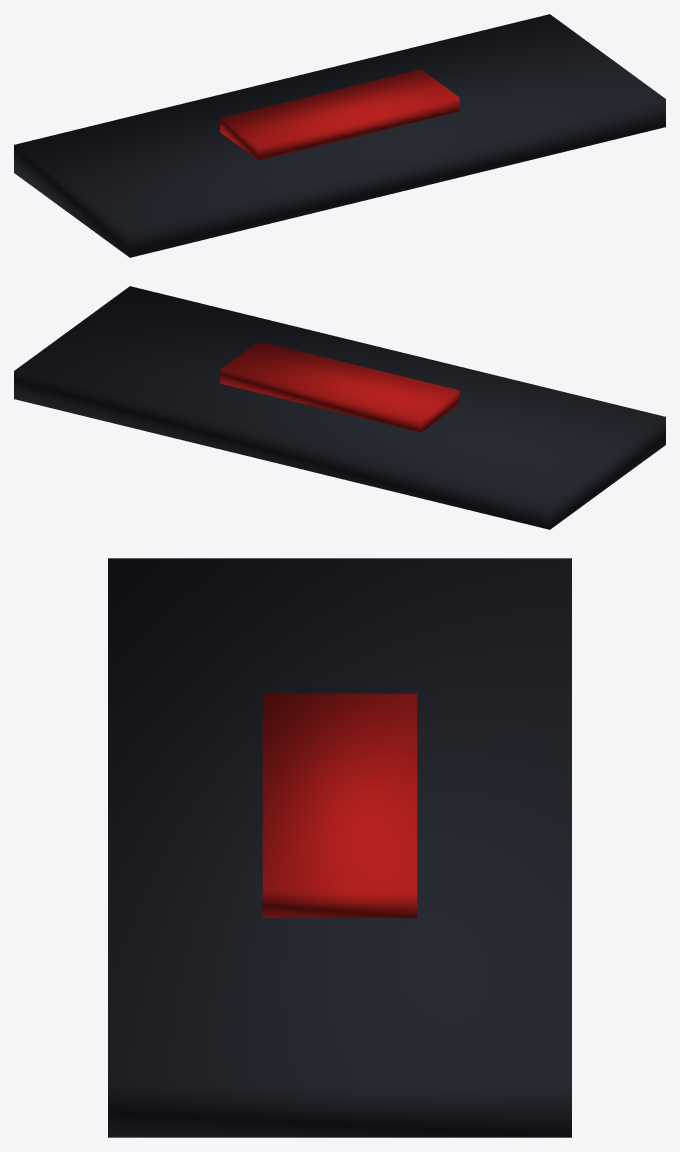
File: 77_L99_Crystal_Fault_Overlay.fbx
The picture shows the model from 3 angles, top to bottom: view 1: azimuth 30°, elevation 25°; view 2: azimuth 150°, elevation 25°; view 3: azimuth 270°, elevation 25°; orthographic projection. The views are drawn at different scales.
Visible parts, largest first — view 1: Part_000, Part_001; view 2: Part_000, Part_001; view 3: Part_000, Part_001.
Boxes of the visible parts, x1,y1,x2,y2 form: Part_000: (14,14,665,257); Part_001: (220,69,459,160); Part_000: (14,286,665,529); Part_001: (220,341,459,432); Part_000: (108,558,571,1137); Part_001: (262,693,417,917).
Size of the model in its own units: 0.008 by 0.003 by 0.0006.
